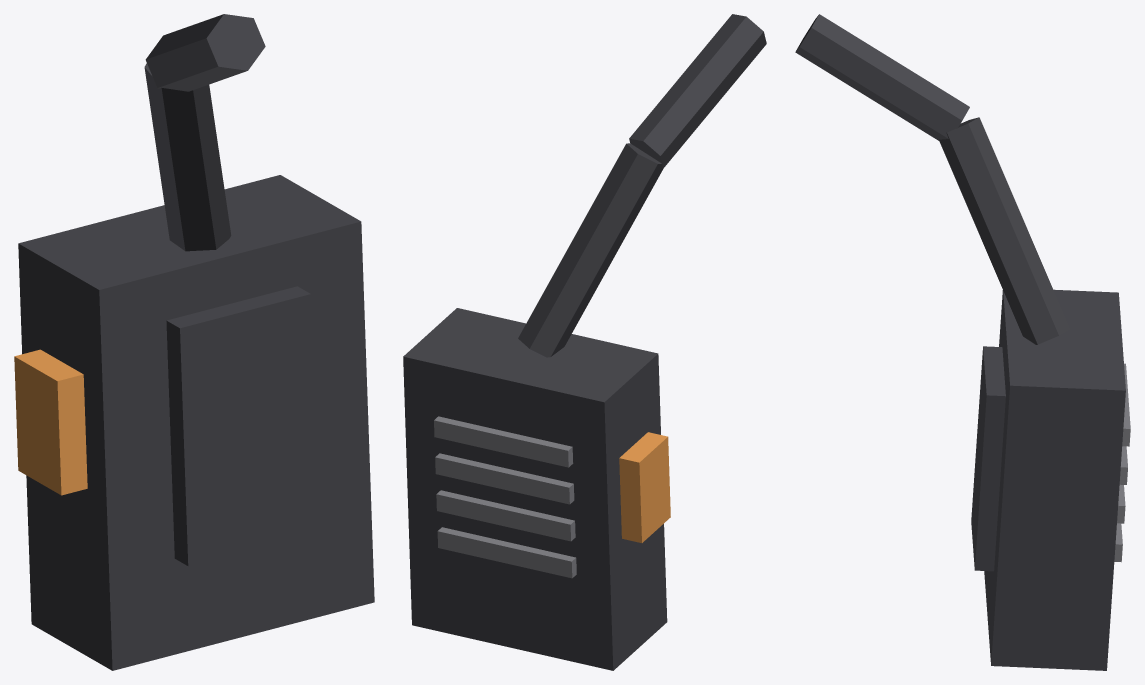
The model's file is Radio_Mic.glb.
3 views of the same model, side by side, from view 1: azimuth 30°, elevation 25°; view 2: azimuth 150°, elevation 25°; view 3: azimuth 270°, elevation 25° (orthographic). The views are drawn at different scales.
Visible parts, largest first — view 1: Radio_Body, Radio_Clip, Radio_Cord, Radio_Key, Radio_Cord.001; view 2: Radio_Body, Radio_Cord, Radio_Cord.001, Radio_Key, Radio_Slot.002, Radio_Slot.003, Radio_Slot.001, Radio_Slot; view 3: Radio_Body, Radio_Cord, Radio_Cord.001, Radio_Clip.
Boxes of the visible parts, left/top/right/bottom form: Radio_Body: left=18, top=175, right=374, bottom=670; Radio_Clip: left=166, top=286, right=319, bottom=566; Radio_Cord: left=144, top=63, right=231, bottom=251; Radio_Key: left=14, top=349, right=87, bottom=495; Radio_Cord.001: left=145, top=14, right=265, bottom=91; Radio_Body: left=403, top=308, right=667, bottom=670; Radio_Cord: left=518, top=143, right=663, bottom=357; Radio_Cord.001: left=629, top=14, right=766, bottom=168; Radio_Key: left=619, top=432, right=670, bottom=542; Radio_Slot.002: left=436, top=490, right=575, bottom=541; Radio_Slot.003: left=437, top=527, right=576, bottom=578; Radio_Slot.001: left=435, top=453, right=574, bottom=504; Radio_Slot: left=434, top=416, right=573, bottom=467; Radio_Body: left=984, top=289, right=1125, bottom=670; Radio_Cord: left=939, top=117, right=1070, bottom=344; Radio_Cord.001: left=795, top=14, right=969, bottom=140; Radio_Clip: left=971, top=346, right=1005, bottom=571.
Bounding box in the file's own units: 0.0668 × 0.16 × 0.0867.
